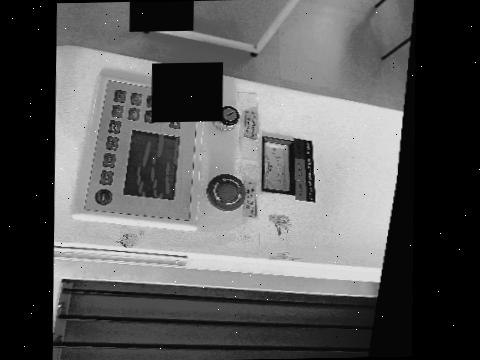Amp_Meter: (264, 141, 290, 191)
Display: (124, 129, 179, 199)
Emergency_Stop: (207, 173, 246, 210)
Enter_button: (146, 94, 152, 107)
Esc_button: (144, 109, 154, 122)
File_button: (112, 104, 124, 117)
Frame_button: (130, 91, 142, 105)
Left_button: (170, 121, 181, 128)
Max-Power_button: (109, 119, 121, 133)
Min-Power_button: (106, 135, 119, 149)
Origin_button: (128, 107, 140, 120)
Power_switch: (213, 105, 239, 130)
Pulse_button: (100, 170, 113, 185)
Reset_button: (95, 188, 113, 204)
Speed_button: (103, 152, 116, 167)
Start-Pause_button: (114, 89, 126, 102)
